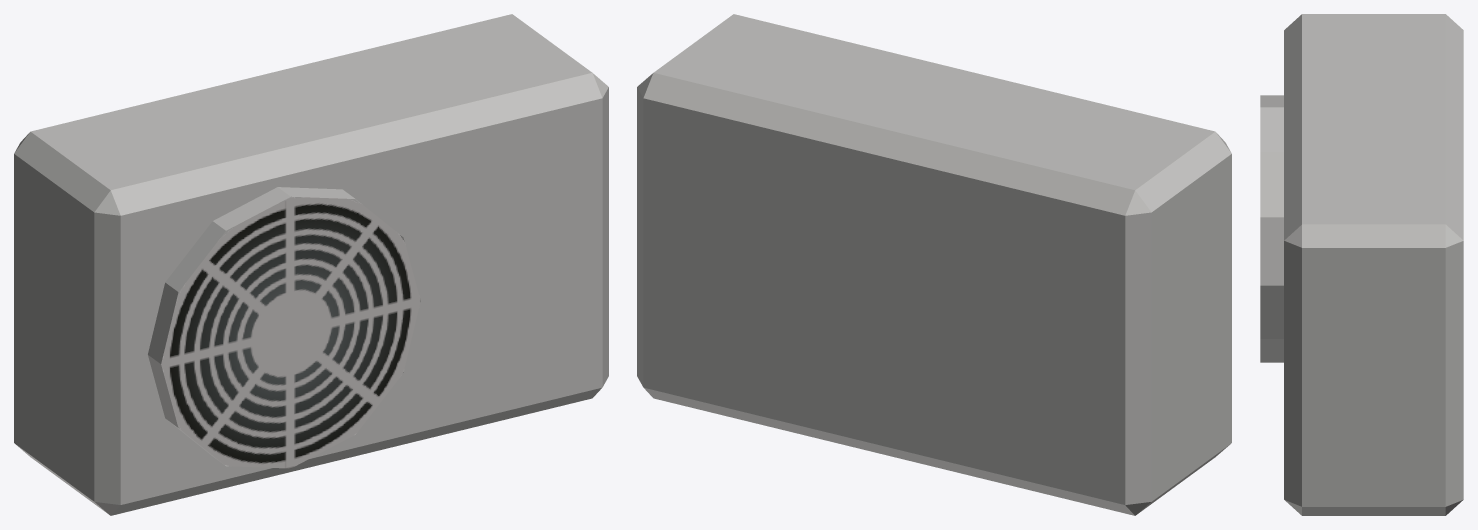
File: obj_ventilateur.fbx
The picture shows the model from 3 angles, left to right: view 1: azimuth 30°, elevation 25°; view 2: azimuth 150°, elevation 25°; view 3: azimuth 270°, elevation 25°; orthographic projection. The views are drawn at different scales.
Parts seen in each view (by area): view 1: obj_ventilateur; view 2: obj_ventilateur; view 3: obj_ventilateur.
Boxes of the visible parts, x1=… form: obj_ventilateur: x1=14, y1=14, x2=608, y2=515; obj_ventilateur: x1=637, y1=14, x2=1231, y2=515; obj_ventilateur: x1=1260, y1=14, x2=1463, y2=515.
Bounding box in the file's own units: 1.37 × 0.8292 × 0.5245.
1 material, 1 textured.
